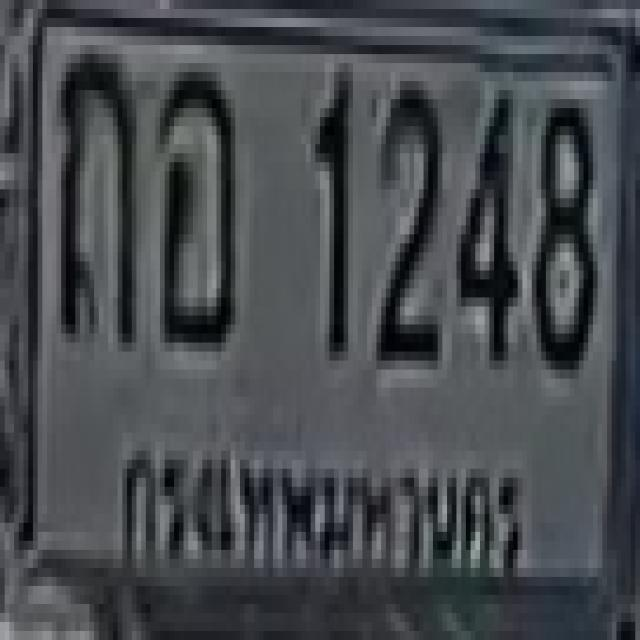1: (313, 68, 351, 347)
2: (374, 77, 440, 356)
4: (452, 81, 520, 369)
8: (532, 90, 599, 369)
A01: (57, 45, 141, 349)
A43: (155, 63, 235, 351)
BKK: (106, 426, 526, 588)
